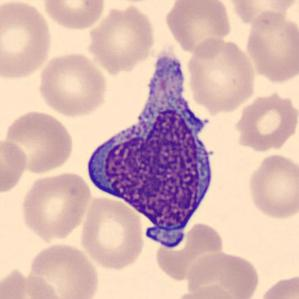Monocyte: (80, 53, 224, 265)
RBC: (184, 36, 258, 114), (18, 169, 92, 244), (85, 2, 157, 75), (78, 195, 146, 271), (35, 50, 109, 119), (1, 109, 76, 176), (231, 88, 299, 154), (0, 0, 54, 82), (25, 241, 100, 299), (243, 9, 298, 84), (162, 0, 233, 56), (184, 249, 262, 299), (245, 152, 298, 222), (223, 0, 298, 29), (40, 0, 108, 31), (0, 267, 62, 299), (0, 138, 30, 196), (256, 272, 299, 299), (169, 284, 242, 299)
